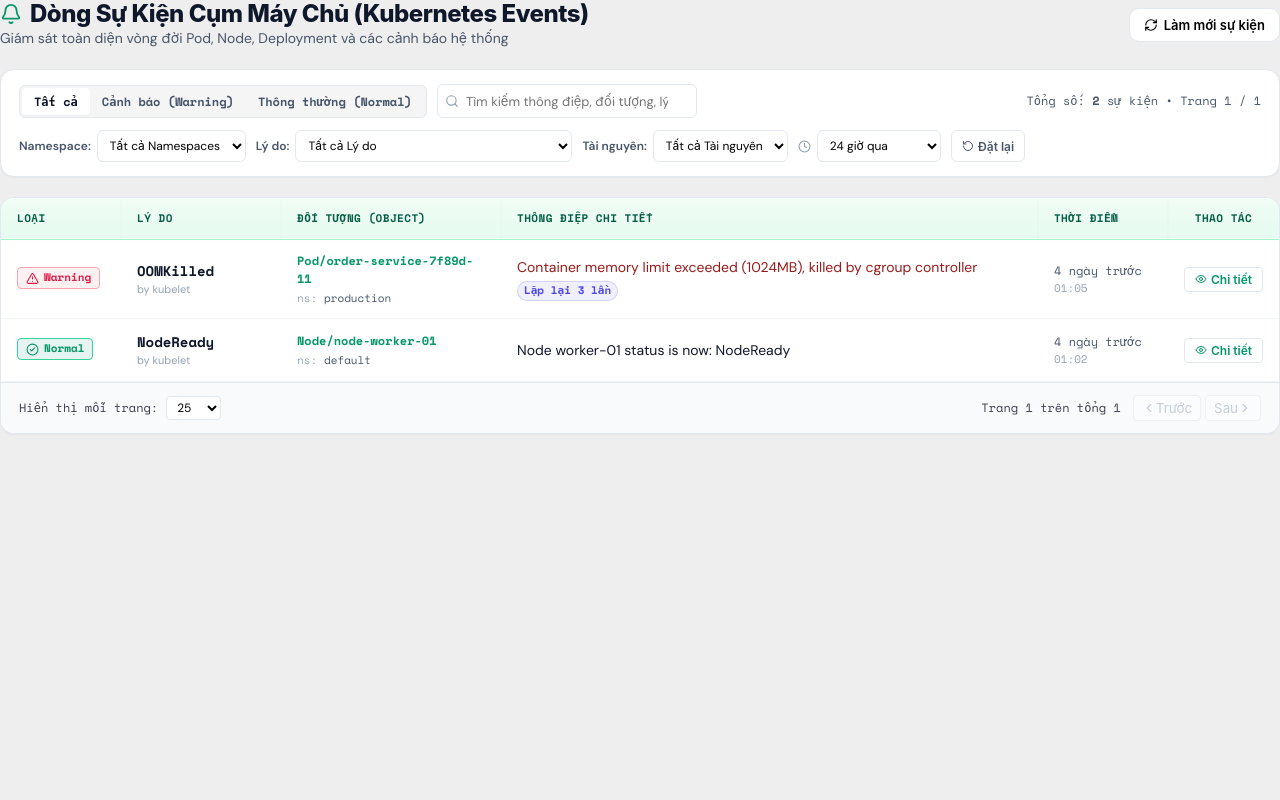
Test: Task [S4][PB18] 4.1 – Kubernetes Events List & Filters UI Suite › 9. Filter Integration & Drill-Down Filtering › 9.2. Clicking "Lọc theo namespace này" from detail modal applies filter, resets page to 1 and closes modal
// Open detail for event 1 (namespace: production)
Click the button with test id "event-detail-btn-1" at (1223, 279), box left=1184, top=266, right=1263, bottom=292
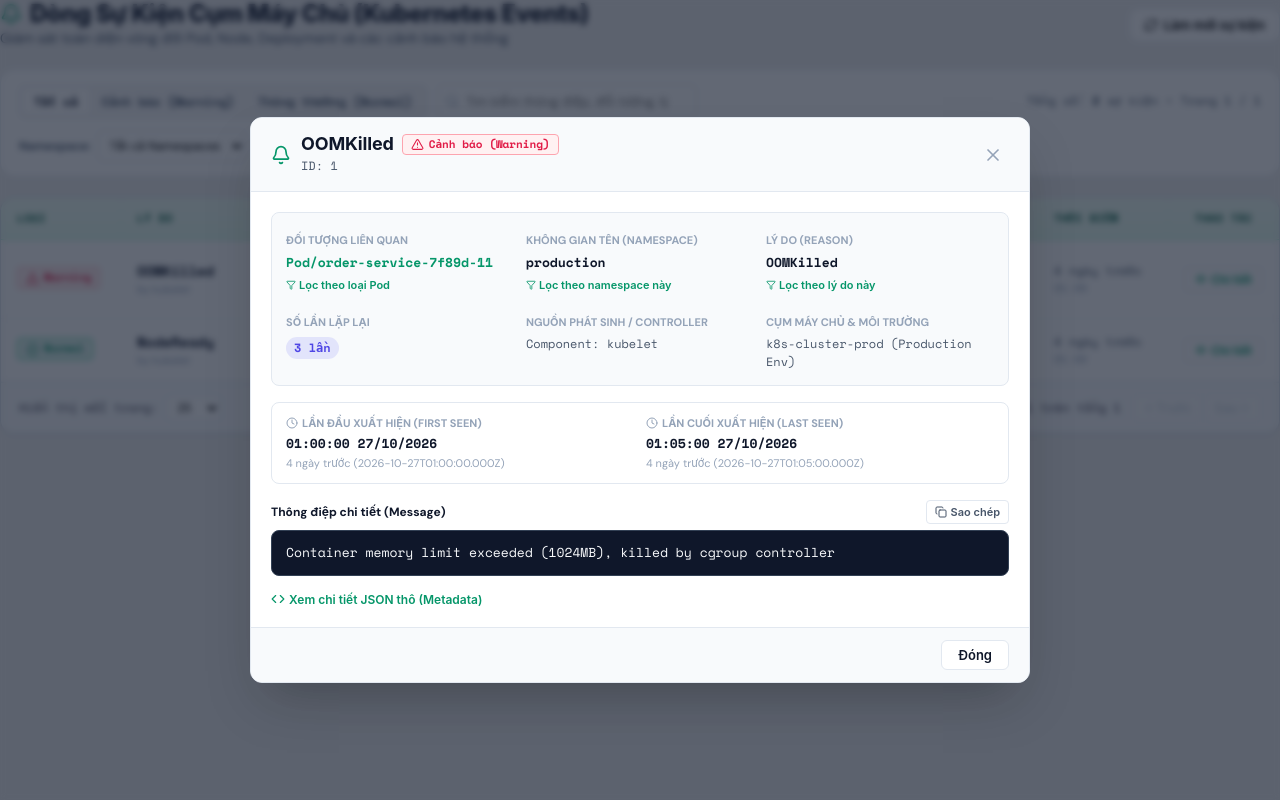
// Click filter by namespace
Click the button with test id "filter-by-namespace-btn" at (599, 285), box left=526, top=278, right=672, bottom=292
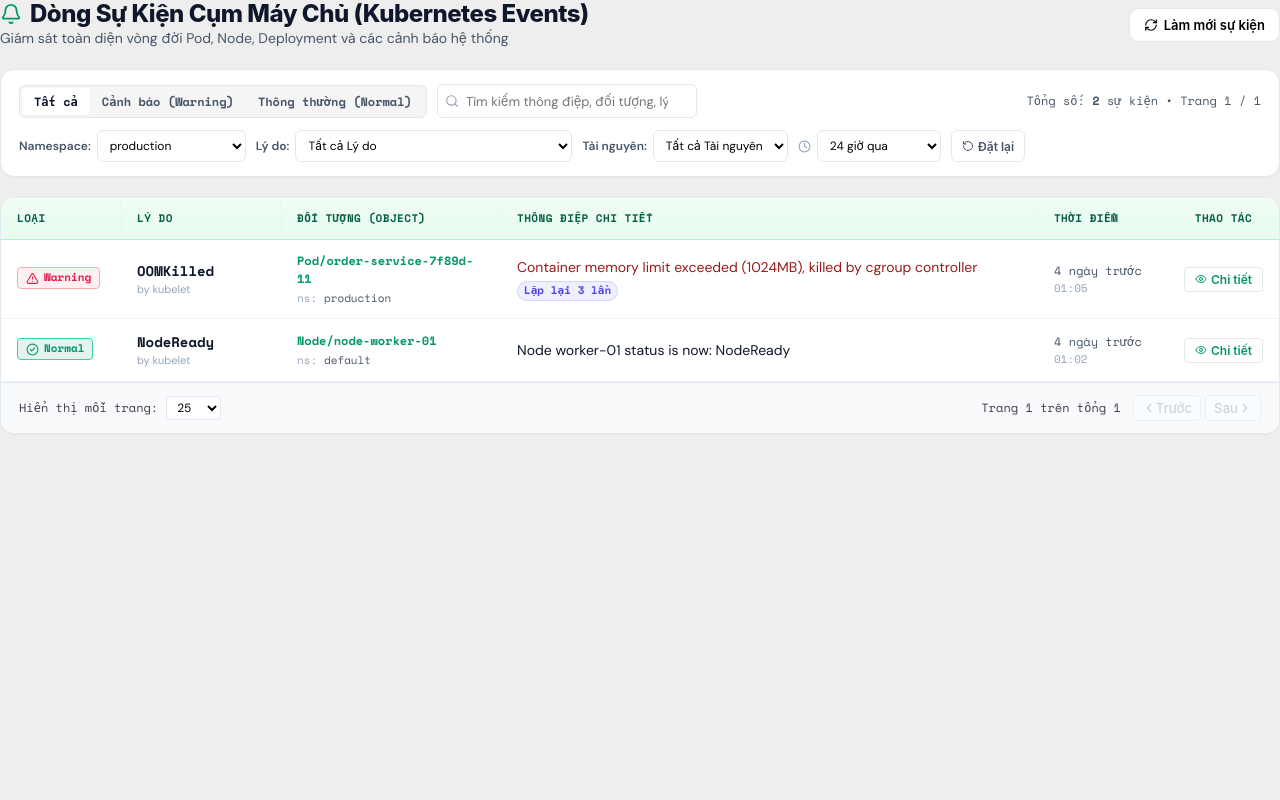
Check: the dialog with test id "event-detail-modal-backdrop" is gone
Check: the dropdown with test id "namespace-select" shows "production", box left=97, top=130, right=246, bottom=162
